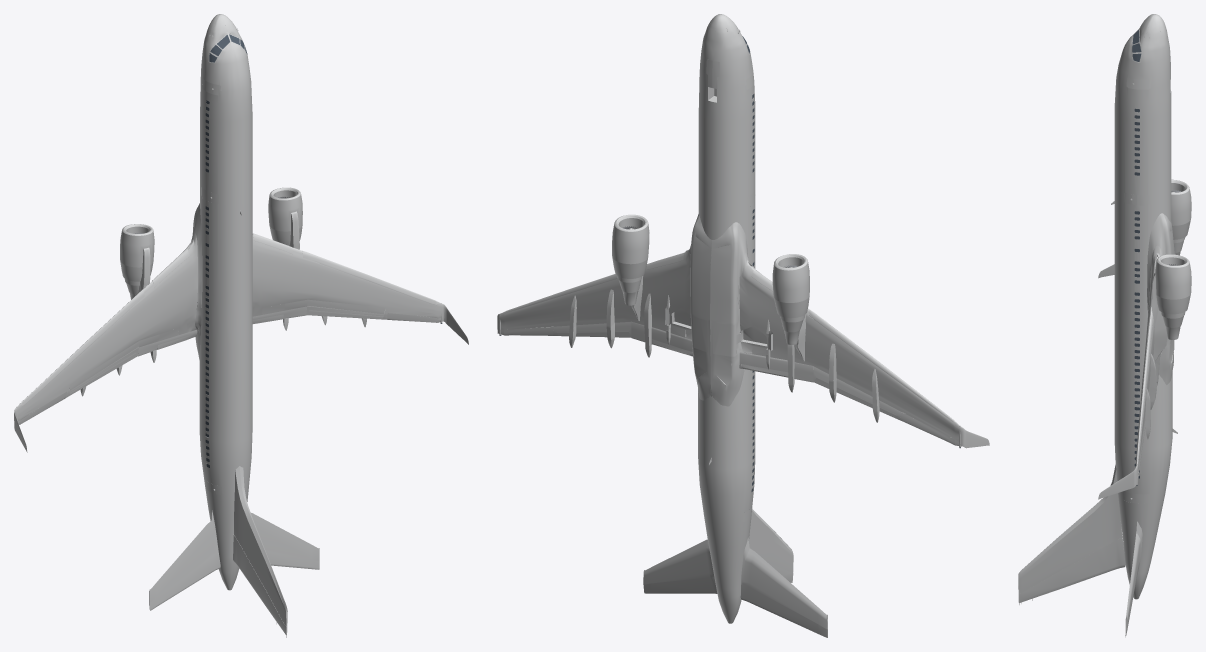
The picture shows the model from 3 angles, left to right: view 1: azimuth 30°, elevation 25°; view 2: azimuth 150°, elevation 25°; view 3: azimuth 270°, elevation 25°; orthographic projection. The views are drawn at different scales.
Parts seen in each view (by area): view 1: B752; view 2: B752; view 3: B752.
Part boxes in pixels (left/top/right/bottom): B752: left=14, top=14, right=468, bottom=637; B752: left=497, top=14, right=989, bottom=637; B752: left=1018, top=14, right=1191, bottom=637.
Bounding box in the file's own units: 38.05 × 47.32 × 12.6.
